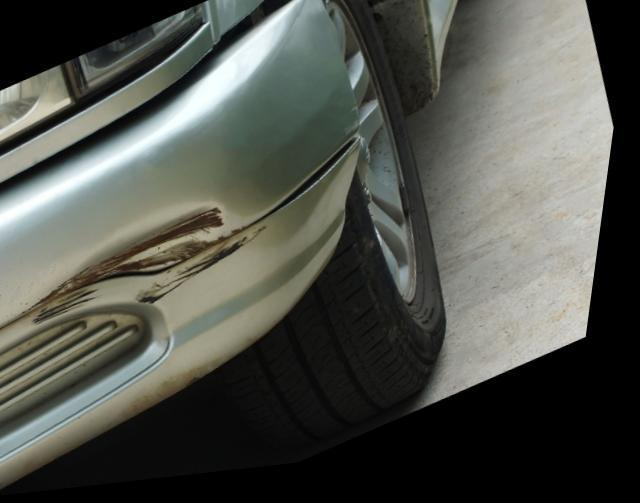dent: (68, 203, 243, 291)
scratch: (144, 232, 279, 309), (27, 284, 111, 329)
